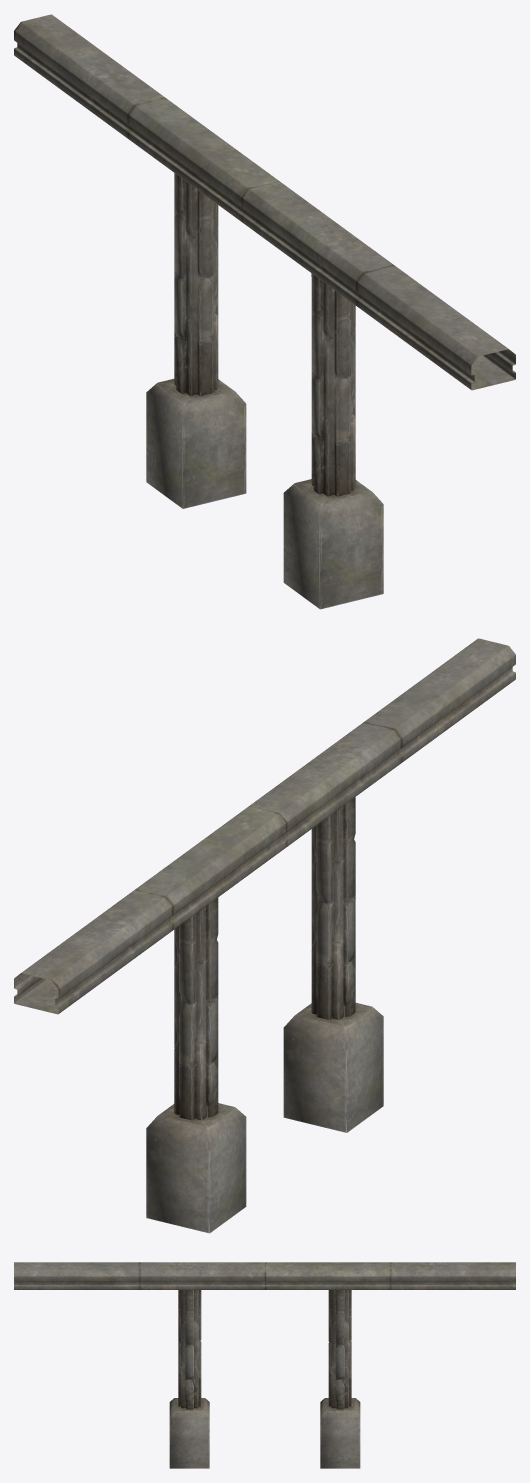
File: Railing08_2.fbx
3 views of the same model, one above another, from view 1: azimuth 30°, elevation 25°; view 2: azimuth 150°, elevation 25°; view 3: azimuth 270°, elevation 25° (orthographic). The views are drawn at different scales.
Visible parts, largest first — view 1: Railing08_2; view 2: Railing08_2; view 3: Railing08_2.
Part boxes in pixels (box(x1,y1,x2,y2)): Railing08_2: box(14, 14, 515, 609); Railing08_2: box(14, 638, 515, 1233); Railing08_2: box(14, 1262, 515, 1468).
Size of the model in its own units: 19.99 by 106 by 250.
